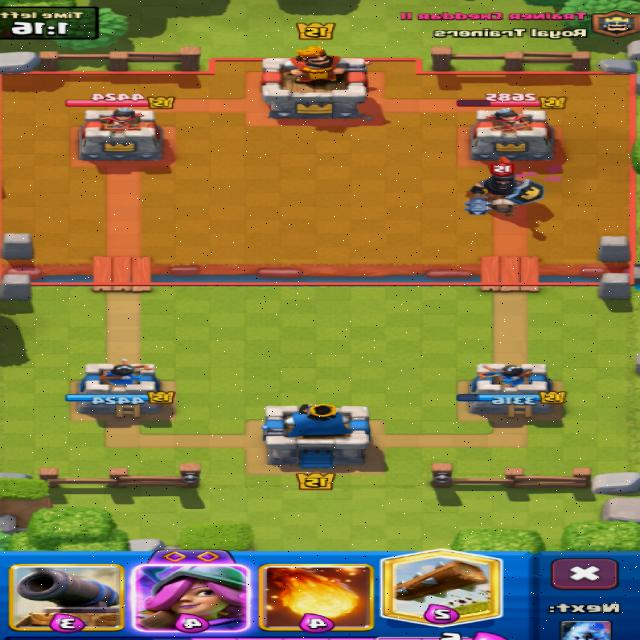Enemy-DarkPrince-Shield: (465, 157, 543, 215), (471, 110, 554, 160)
Enemy-KingTower: (263, 45, 369, 118)
Enemy-PrincessTower: (471, 108, 553, 159), (81, 108, 161, 160)
Player-KingTower: (263, 404, 370, 468)
Player-PrincessTower: (465, 365, 566, 418), (77, 364, 173, 417)
